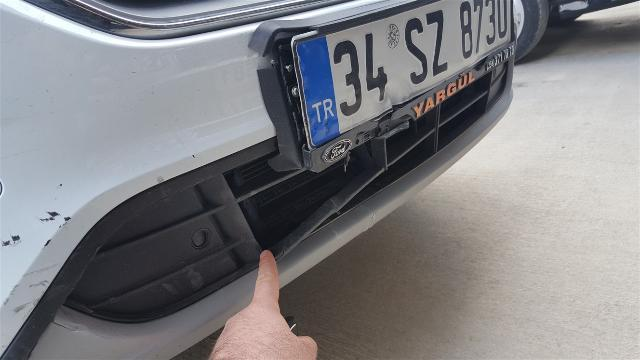crack: (251, 22, 423, 176), (254, 160, 390, 262)
scratch: (38, 210, 73, 228), (2, 232, 25, 252), (22, 263, 56, 276), (13, 298, 41, 311), (3, 284, 17, 308), (25, 279, 48, 291), (157, 175, 166, 184), (192, 155, 195, 158)
